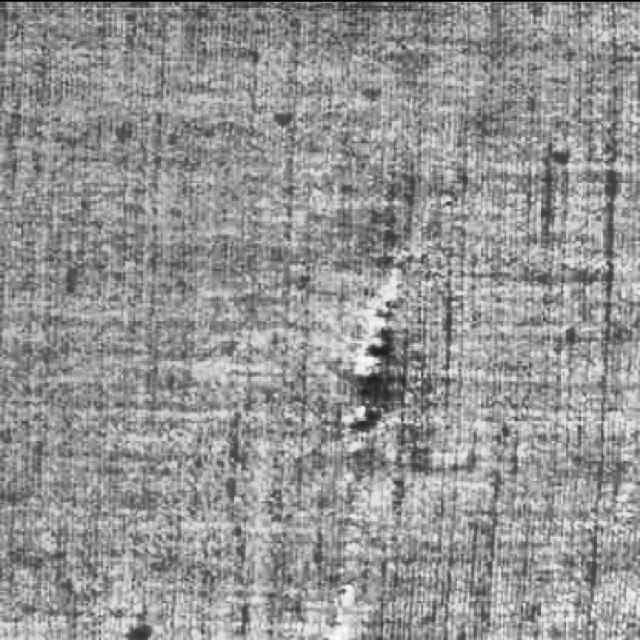thread_error: (298, 240, 424, 640)
